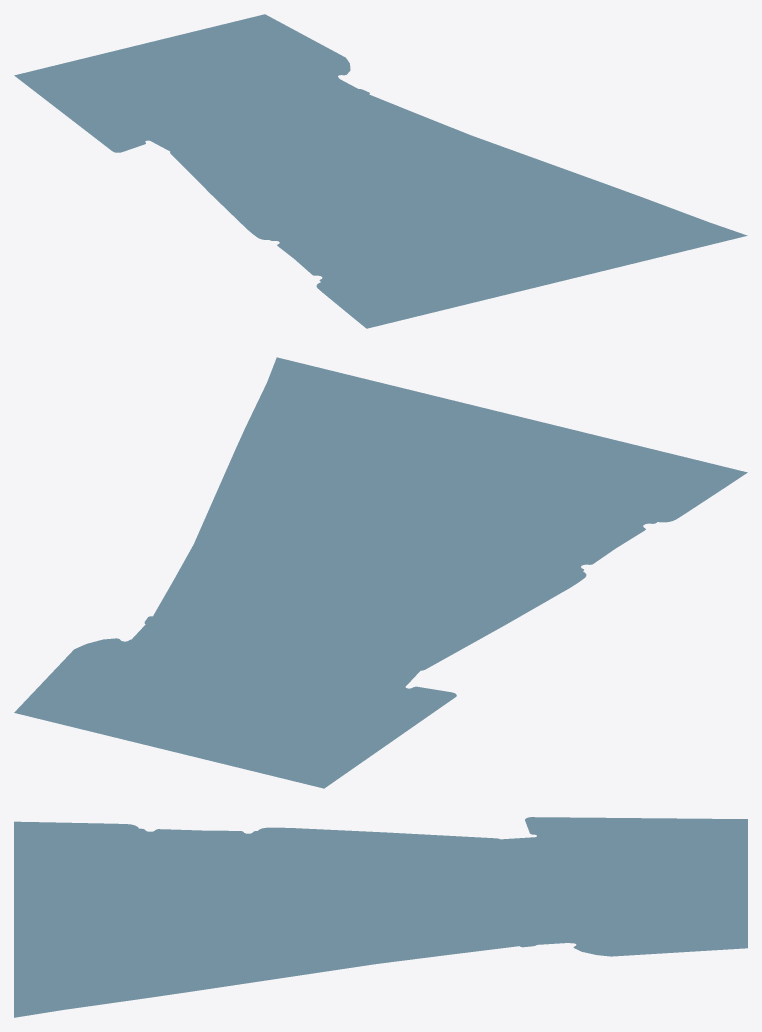
The picture shows the model from 3 angles, top to bottom: view 1: azimuth 30°, elevation 25°; view 2: azimuth 150°, elevation 25°; view 3: azimuth 270°, elevation 25°; orthographic projection. The views are drawn at different scales.
Parts seen in each view (by area): view 1: tile:17/68646/45903; view 2: tile:17/68646/45903; view 3: tile:17/68646/45903.
Boxes of the visible parts, x1,y1,x2,y2 form: tile:17/68646/45903: (14,14,747,328); tile:17/68646/45903: (14,357,747,788); tile:17/68646/45903: (14,817,747,1017).
Bounding box in the file's own units: 126 × 0.042 × 195.
